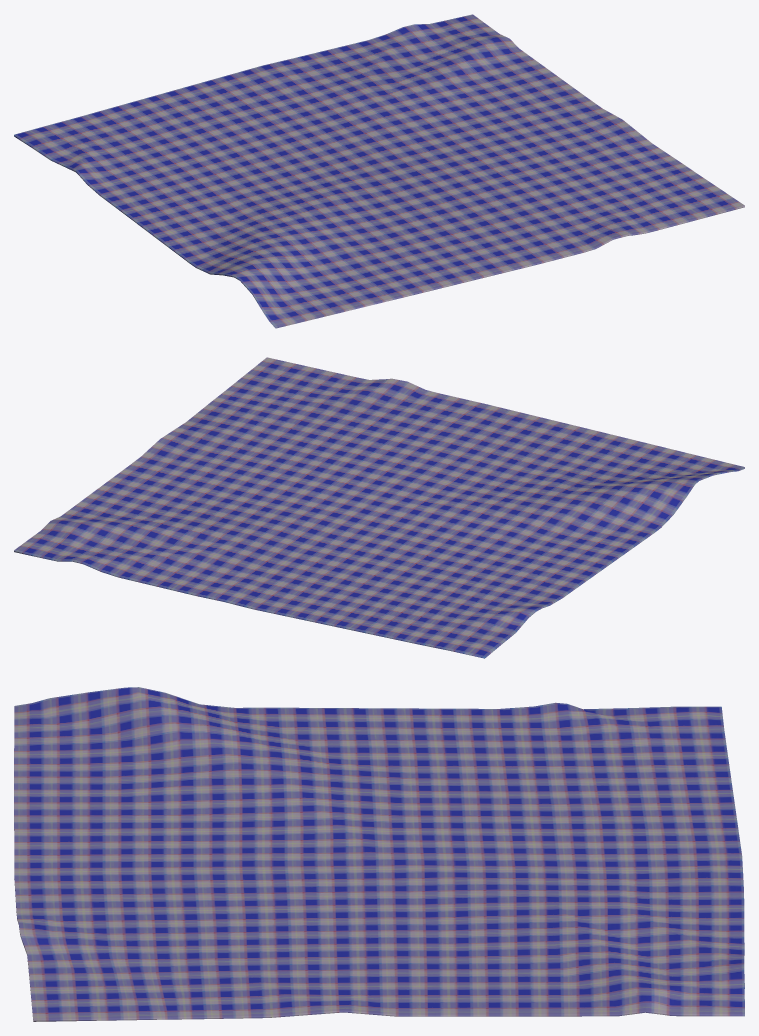
The model's file is a_com_nushi01_cloth01.gltf.
3 renders of one model, top to bottom at view 1: azimuth 30°, elevation 25°; view 2: azimuth 150°, elevation 25°; view 3: azimuth 270°, elevation 25°, orthographic. The views are drawn at different scales.
Parts seen in each view (by area): view 1: cloth01_mesh_shape:a_com_nushi01_cloth01_01_; view 2: cloth01_mesh_shape:a_com_nushi01_cloth01_01_; view 3: cloth01_mesh_shape:a_com_nushi01_cloth01_01_.
Part boxes in pixels (left/top/right/bottom): cloth01_mesh_shape:a_com_nushi01_cloth01_01_: left=14, top=14, right=744, bottom=328; cloth01_mesh_shape:a_com_nushi01_cloth01_01_: left=14, top=357, right=744, bottom=658; cloth01_mesh_shape:a_com_nushi01_cloth01_01_: left=14, top=687, right=744, bottom=1021.
Bounding box in the file's own units: 0.4013 × 0.0147 × 0.3956.
1 material, 1 textured.
